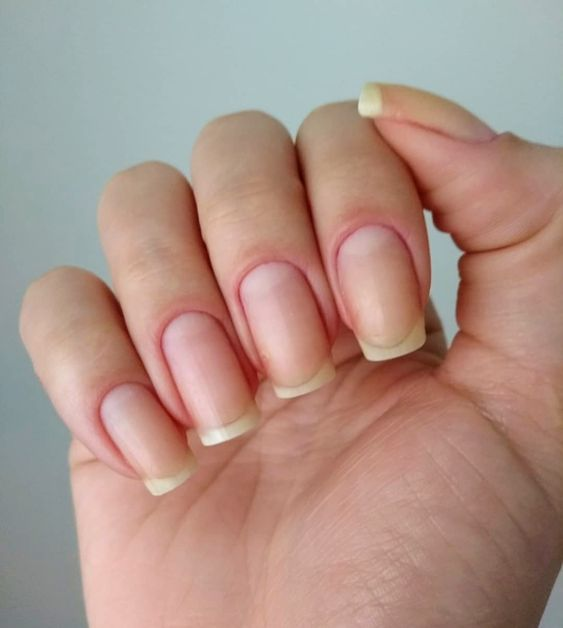nails: (144, 303, 275, 449), (221, 252, 346, 405), (317, 215, 439, 362), (88, 370, 203, 501), (343, 74, 503, 153)
